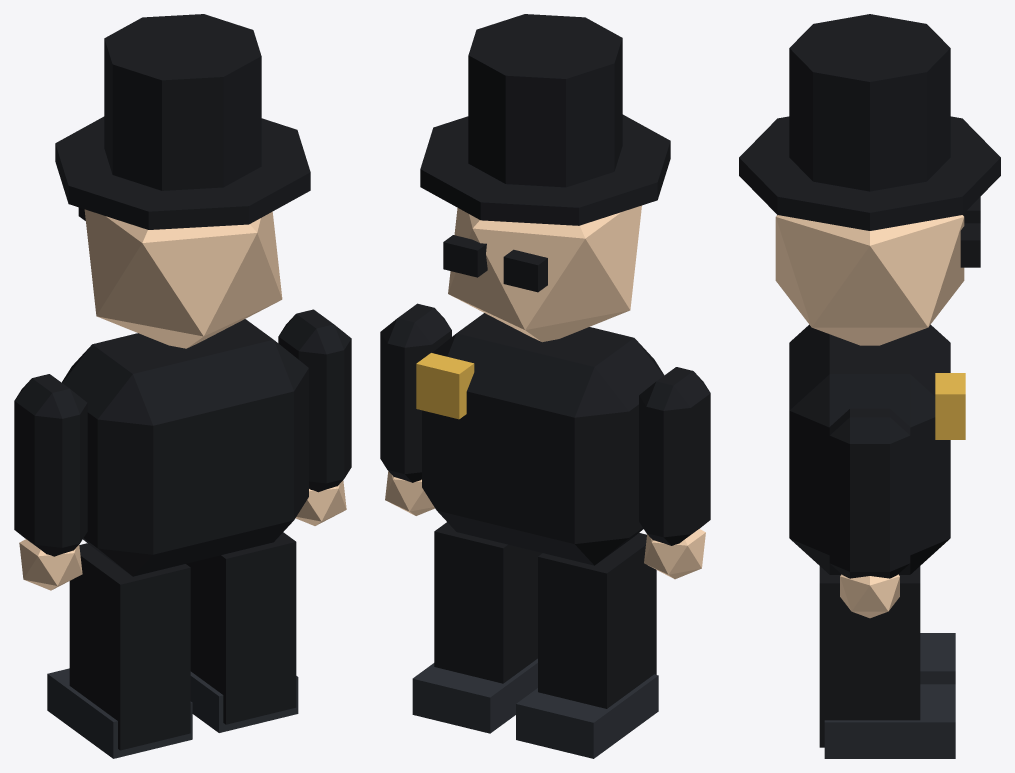
File: vip.glb
The picture shows the model from 3 angles, left to right: view 1: azimuth 30°, elevation 25°; view 2: azimuth 150°, elevation 25°; view 3: azimuth 270°, elevation 25°; orthographic projection.
Parts seen in each view (by area): view 1: Torso, Leg_L, Leg_R, Arm_L, Arm_R; view 2: Torso, Leg_L, Leg_R, Arm_L, Arm_R; view 3: Torso, Leg_R, Arm_R, Leg_L.
Part boxes in pixels (bbox=[...]): Torso: bbox=[55, 14, 310, 576]; Leg_L: bbox=[47, 543, 192, 758]; Leg_R: bbox=[186, 532, 298, 732]; Arm_L: bbox=[14, 374, 87, 590]; Arm_R: bbox=[278, 309, 351, 525]; Torso: bbox=[416, 14, 670, 565]; Leg_L: bbox=[516, 533, 658, 758]; Leg_R: bbox=[412, 522, 542, 733]; Arm_L: bbox=[639, 367, 710, 579]; Arm_R: bbox=[380, 303, 451, 515]; Torso: bbox=[739, 14, 1000, 574]; Leg_R: bbox=[819, 566, 955, 758]; Arm_R: bbox=[829, 408, 910, 618]; Leg_L: bbox=[920, 633, 955, 684].
Size of the model in its own units: 0.3626 by 0.73 by 0.26.
Materials: 1 (1 with a texture image).
